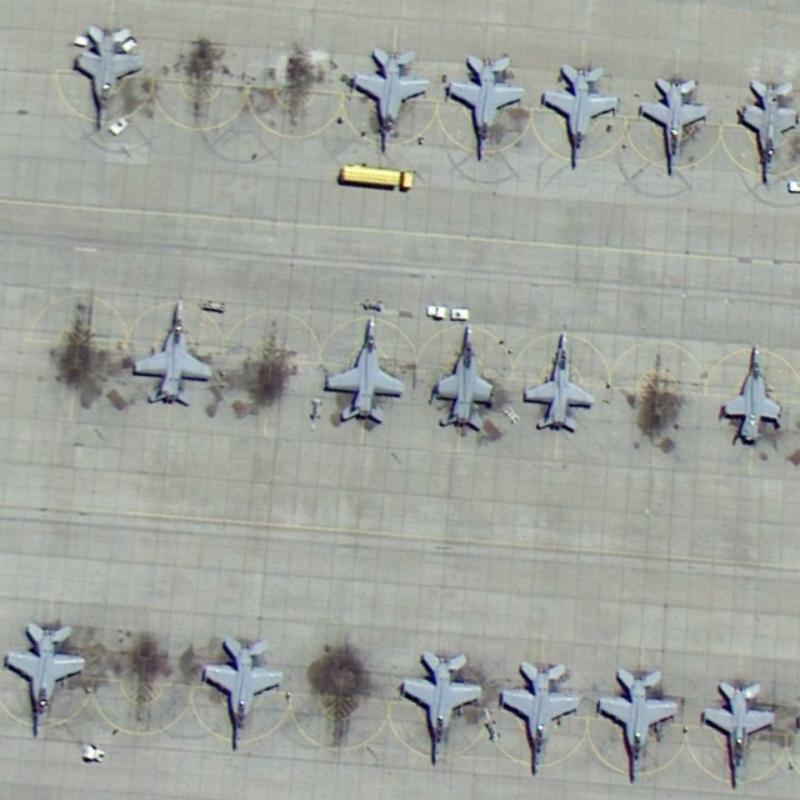A16: (491, 654, 586, 781), (396, 639, 485, 774), (197, 626, 286, 759), (0, 612, 92, 740), (121, 293, 220, 408), (593, 662, 683, 788), (340, 38, 433, 159), (533, 54, 622, 177), (692, 669, 781, 790), (440, 47, 528, 169), (64, 14, 149, 138), (318, 311, 407, 429), (516, 321, 599, 436), (427, 316, 501, 443), (631, 69, 713, 181), (710, 336, 785, 451), (730, 73, 799, 188)
